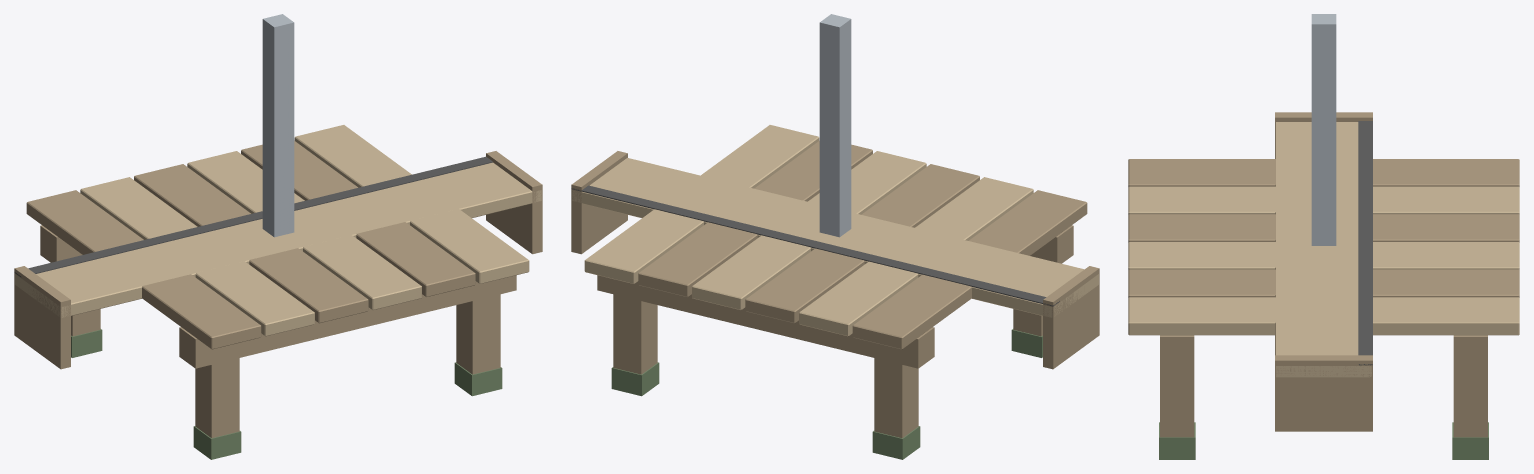
The model's file is shore_steps.glb.
The picture shows the model from 3 angles, left to right: view 1: azimuth 30°, elevation 25°; view 2: azimuth 150°, elevation 25°; view 3: azimuth 270°, elevation 25°; orthographic projection. The views are drawn at different scales.
Parts seen in each view (by area): view 1: is_footpad_mesh, fp_tread_mesh, fp_post_mesh; view 2: is_footpad_mesh, fp_tread_mesh, fp_post_mesh; view 3: is_footpad_mesh, fp_tread_mesh, fp_post_mesh.
Part boxes in pixels (box(x1,y1,x2,y2)): is_footpad_mesh: box(26, 125, 529, 459); fp_tread_mesh: box(14, 151, 542, 369); fp_post_mesh: box(262, 14, 294, 237); is_footpad_mesh: box(584, 125, 1087, 459); fp_tread_mesh: box(571, 151, 1099, 369); fp_post_mesh: box(819, 14, 851, 237); is_footpad_mesh: box(1128, 159, 1519, 459); fp_tread_mesh: box(1275, 112, 1372, 431); fp_post_mesh: box(1311, 14, 1336, 245).
Bounding box in the file's own units: 2.4 × 1.65 × 1.6.
